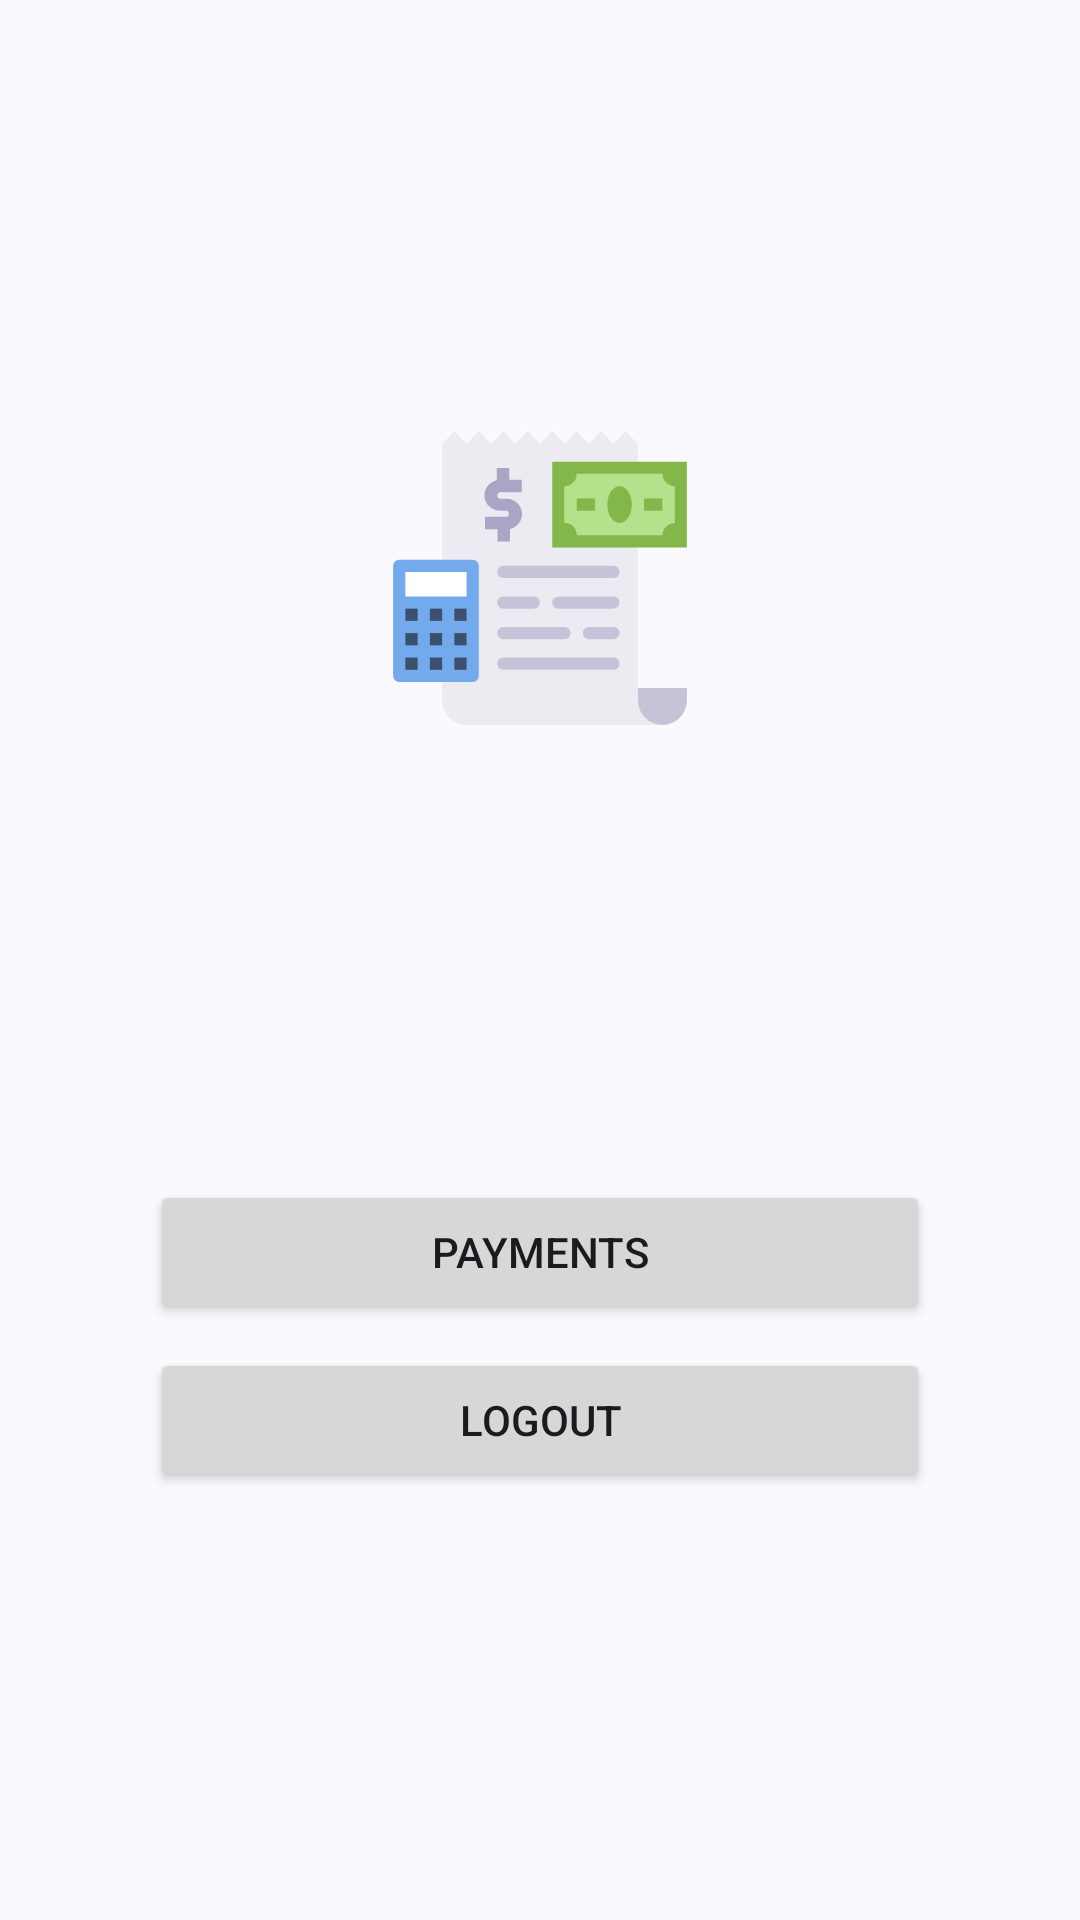

Icon click points for this 1080 x 1920 phone screenshot, format (x=x, y=y):
pay: (x=540, y=578)
